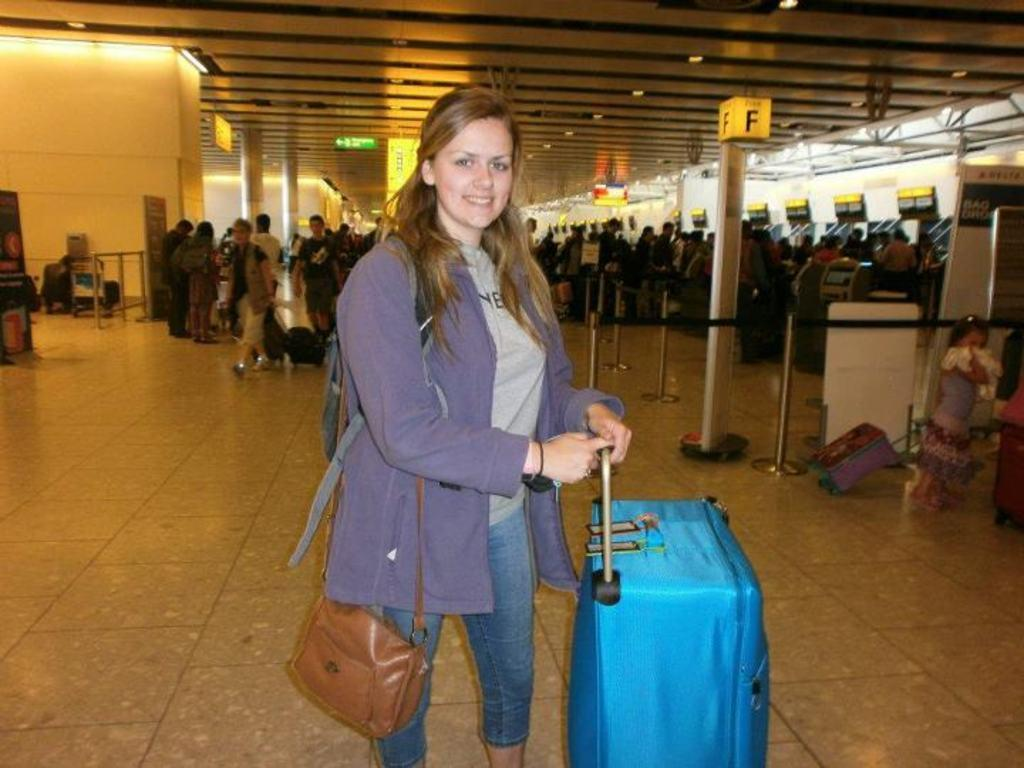Luggage-and-bags: (555, 481, 792, 768), (277, 229, 437, 567), (283, 373, 427, 738), (276, 306, 327, 364), (265, 311, 286, 358)
